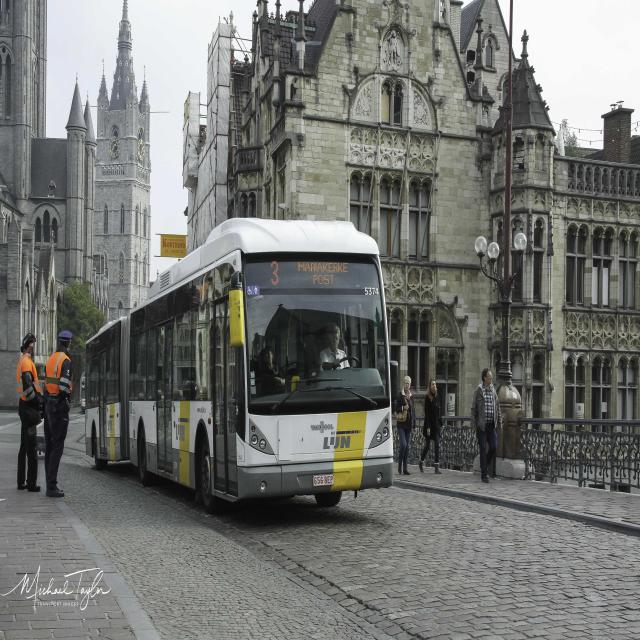bus-number: (270, 260, 279, 287)
